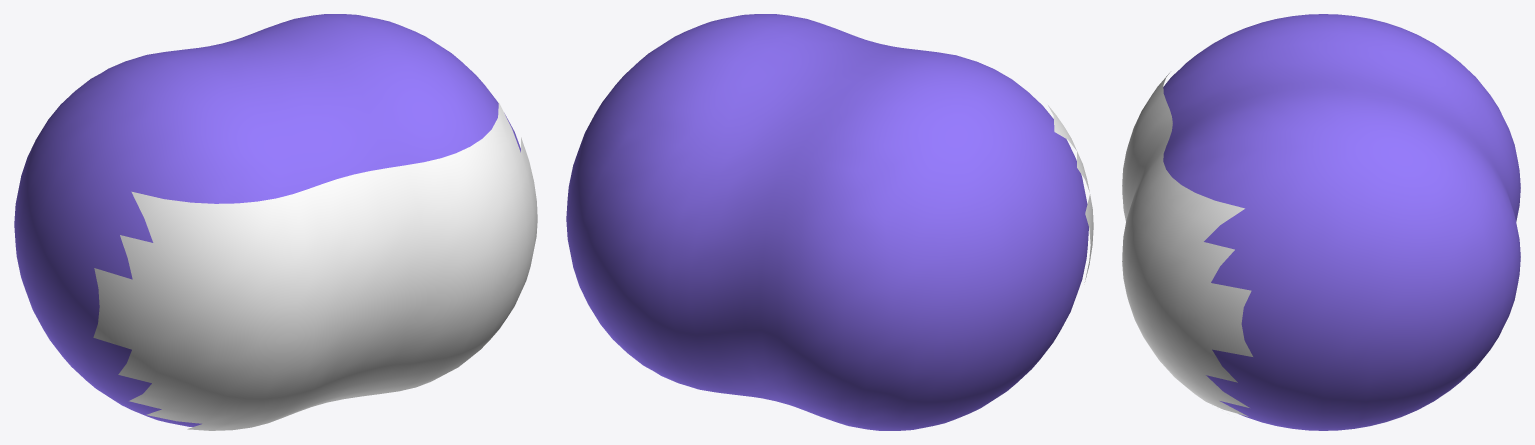
Rendered from head-bean.glb.
The picture shows the model from 3 angles, left to right: view 1: azimuth 30°, elevation 25°; view 2: azimuth 150°, elevation 25°; view 3: azimuth 270°, elevation 25°; orthographic projection. The views are drawn at different scales.
Parts seen in each view (by area): view 1: face, head-bean-mesh; view 2: head-bean-mesh, face; view 3: head-bean-mesh, face.
Boxes of the visible parts, x1,y1,x2,y2 form: face: (93, 102, 537, 430); head-bean-mesh: (14, 14, 520, 426); head-bean-mesh: (566, 14, 1088, 430); face: (1048, 105, 1093, 282); head-bean-mesh: (1163, 14, 1520, 430); face: (1122, 73, 1252, 416).
Size of the model in its own units: 1.38 by 0.9782 by 1.11.
